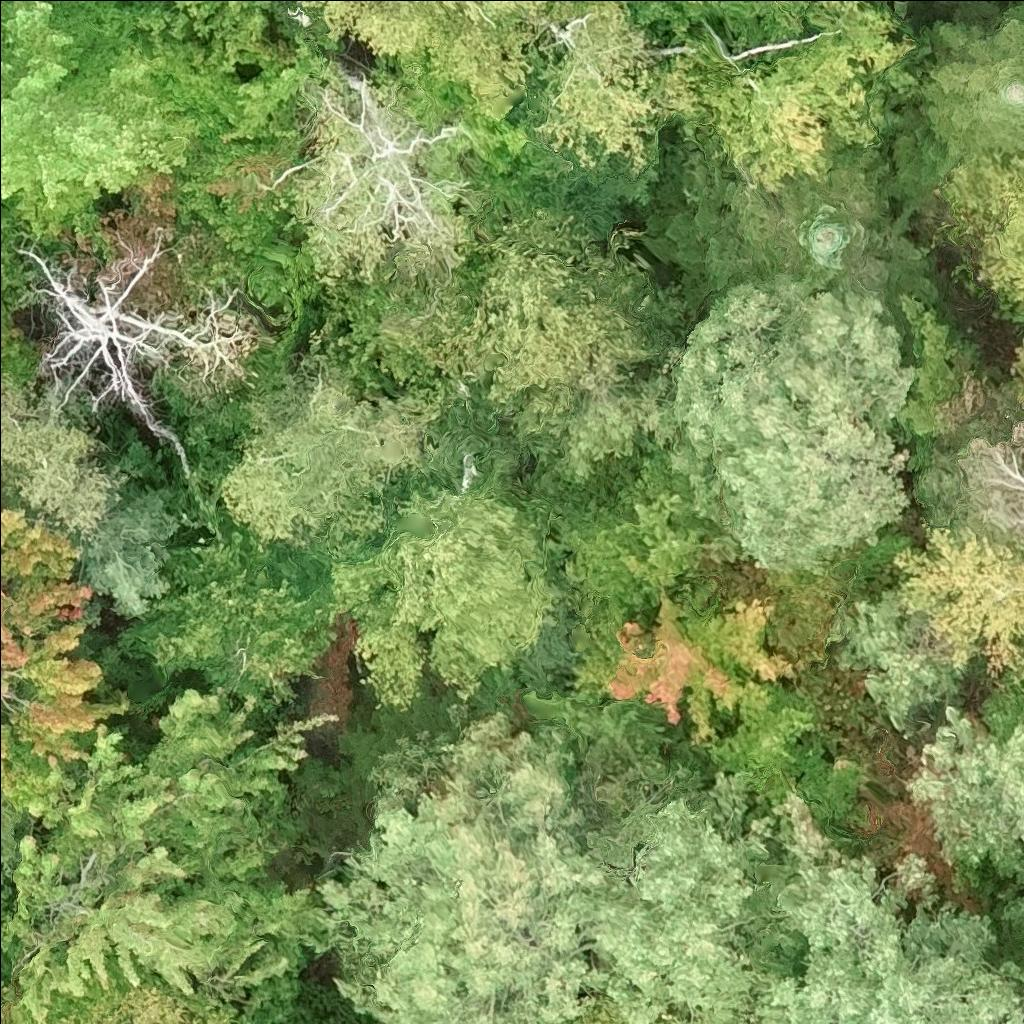crown: (0, 683, 339, 1023), (594, 775, 1023, 1023), (326, 712, 616, 1023), (659, 276, 909, 573), (11, 230, 257, 486), (381, 221, 666, 417), (0, 0, 232, 234), (339, 491, 562, 718), (144, 511, 385, 709), (160, 59, 317, 331), (691, 8, 924, 190), (693, 136, 934, 302), (287, 80, 473, 290), (221, 371, 442, 545), (308, 0, 590, 120), (0, 511, 122, 776), (532, 0, 706, 174), (612, 599, 793, 745), (0, 383, 119, 543), (712, 692, 865, 816), (899, 528, 1023, 680), (911, 706, 1023, 862), (913, 13, 1023, 168), (120, 0, 282, 86), (941, 152, 1023, 309), (22, 984, 231, 1023), (823, 0, 889, 21), (1018, 1011, 1023, 1023)
